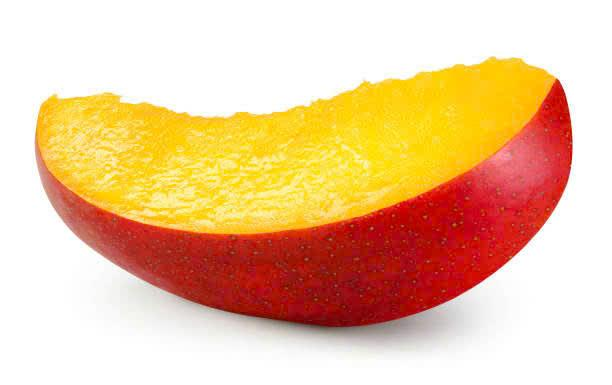mango: (13, 71, 577, 338)
